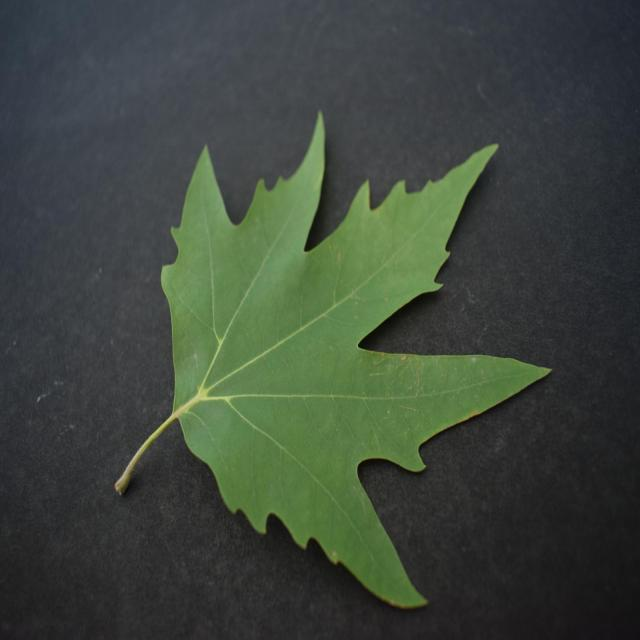healthy: (117, 116, 547, 607)
